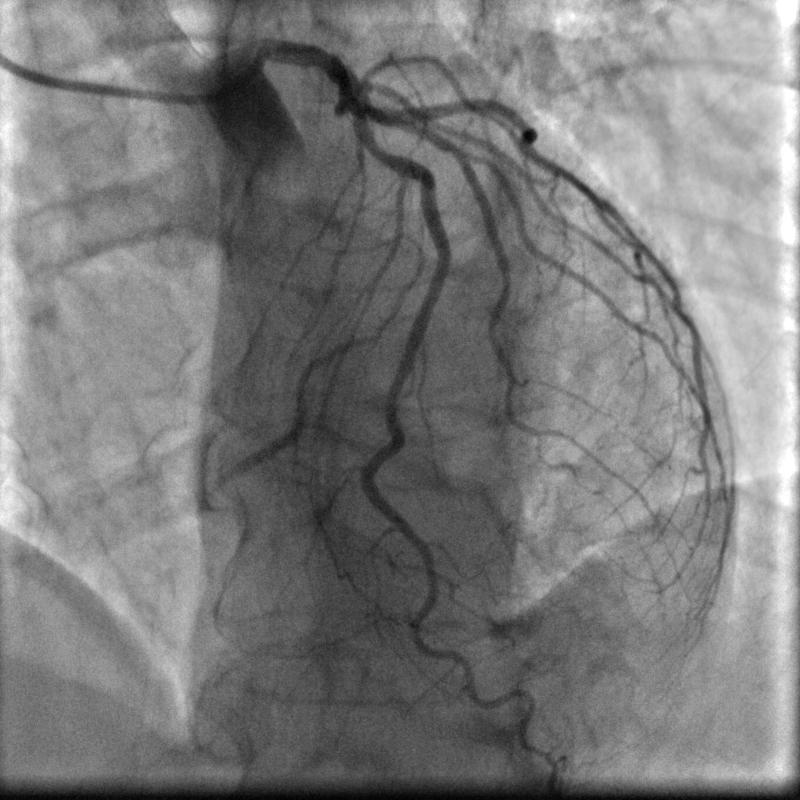Stenosis: (365, 141, 394, 159)
